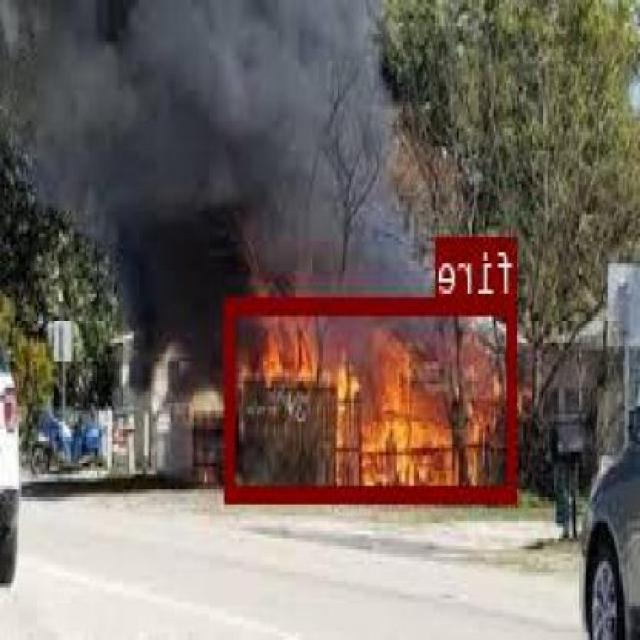Fire: (246, 330, 504, 492)
Smoke: (6, 5, 418, 402)
